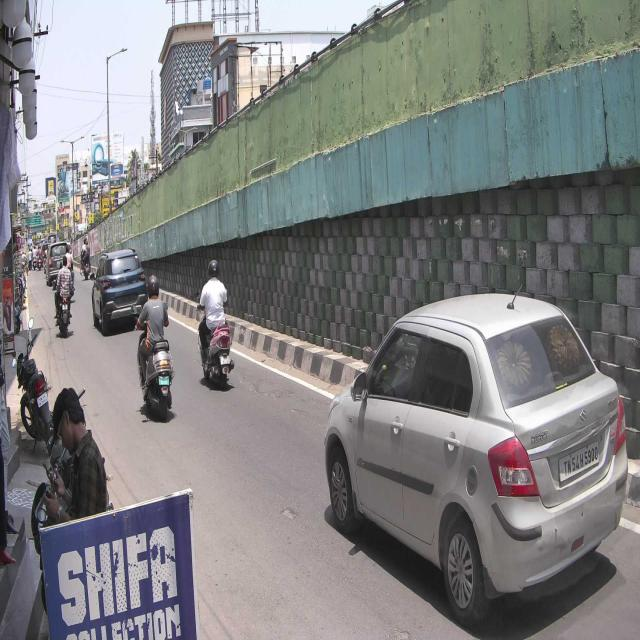single_rider: (131, 272, 175, 424), (195, 258, 235, 391)
